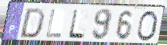6: (115, 9, 134, 41)
9: (92, 8, 114, 42)
D: (18, 8, 46, 40)
L: (67, 9, 86, 40), (45, 9, 62, 39)
O: (135, 10, 159, 43)
